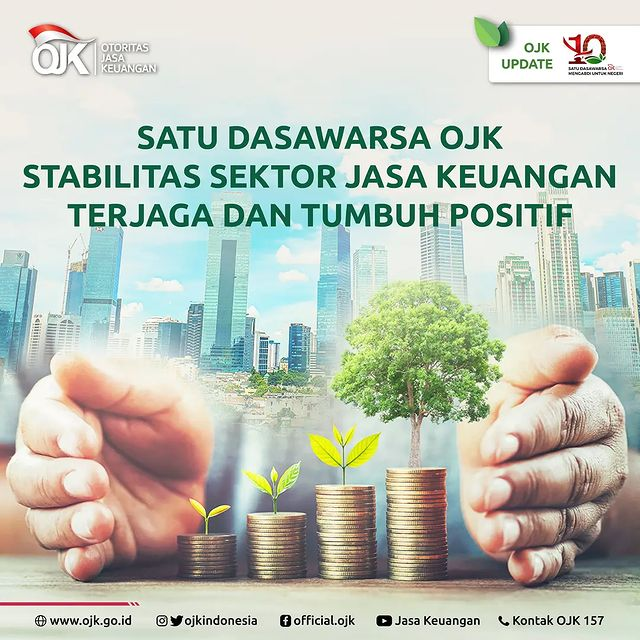ojk: (23, 19, 163, 79)
